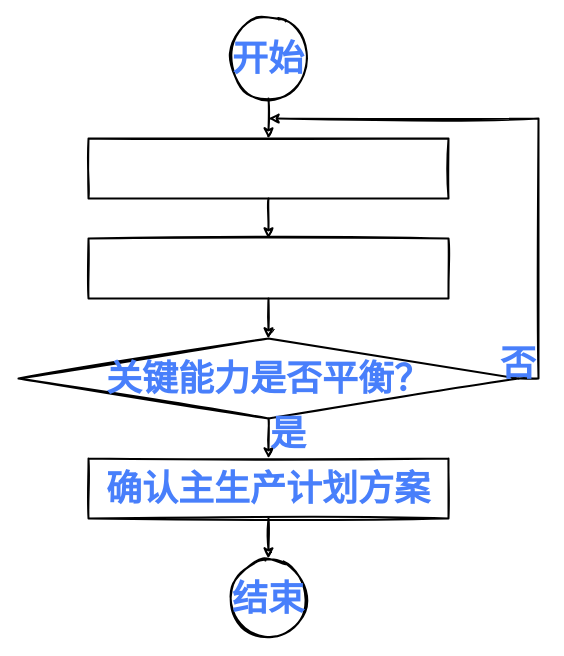
Image size: 564x656. Some labels were removed from this diagram. The shapes that lost their labels are listed below. From the top down, each one's centre as x and y in pixels, then its label:
At pixel 268 168: "编制主生产计划方案".
At pixel 268 268: "编制粗能力需求计划".
